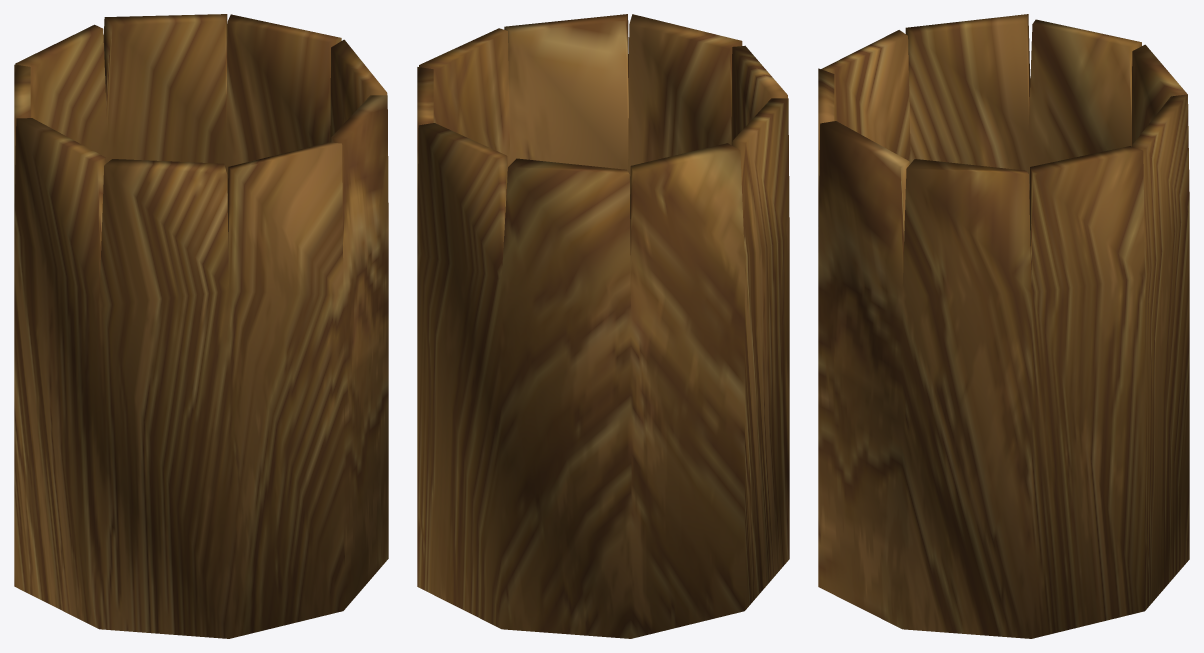
The model's file is Open Barrel.glb.
3 renders of one model, left to right at view 1: azimuth 30°, elevation 25°; view 2: azimuth 150°, elevation 25°; view 3: azimuth 270°, elevation 25°, orthographic.
Visible parts, largest first — view 1: B1.002; view 2: B1.002; view 3: B1.002.
Boxes of the visible parts, left/top/right/bottom form: B1.002: left=14, top=14, right=388, bottom=638; B1.002: left=417, top=14, right=789, bottom=638; B1.002: left=818, top=14, right=1189, bottom=638.
Size of the model in its own units: 1.97 by 2.69 by 1.94.
Materials: 1 (1 with a texture image).
